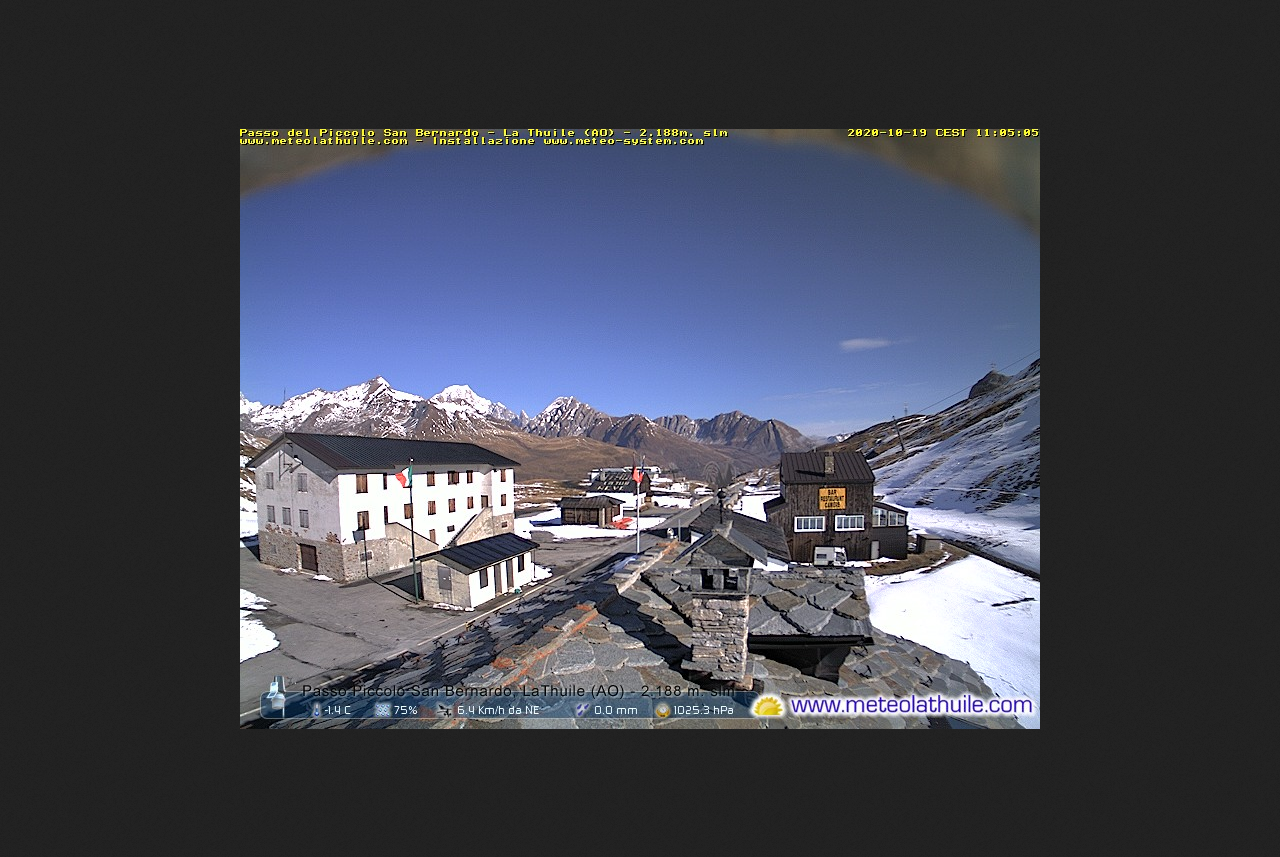no: (627, 451, 641, 484), (636, 453, 650, 484)
